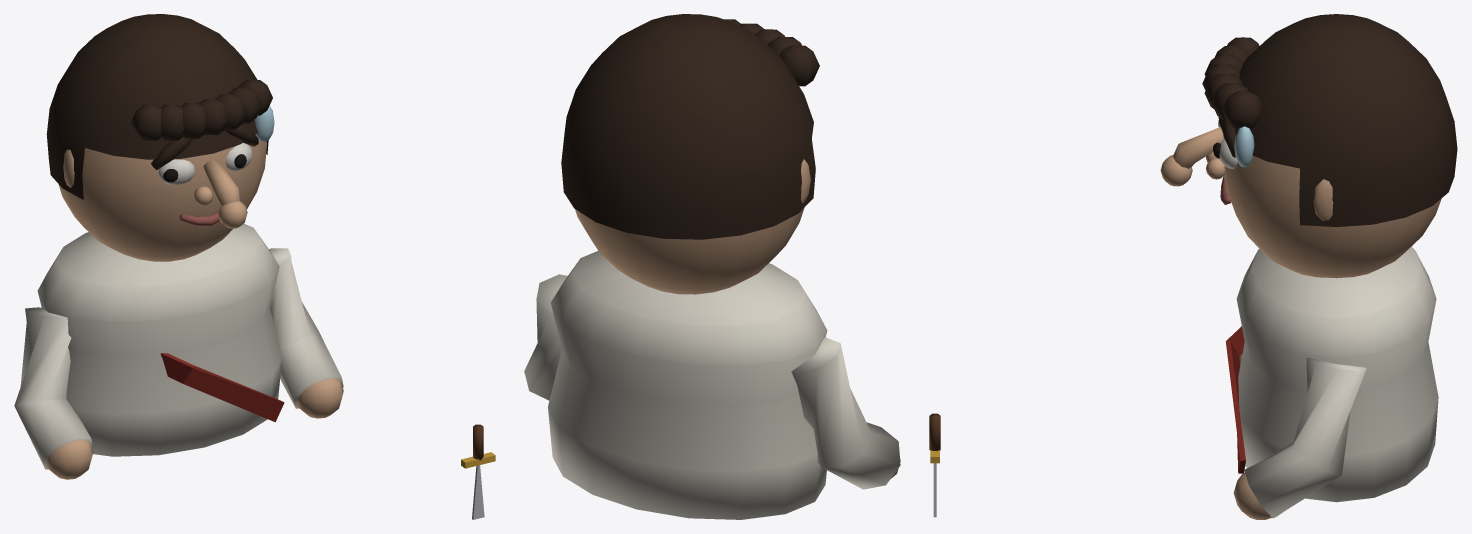
3 renders of one model, left to right at view 1: azimuth 30°, elevation 25°; view 2: azimuth 150°, elevation 25°; view 3: azimuth 270°, elevation 25°, orthographic. The views are drawn at different scales.
Visible parts, largest first — view 1: fig_body, fig_head, fig_props; view 2: fig_body, fig_head; view 3: fig_head, fig_body, fig_props.
Boxes of the visible parts, left/top/right/bottom form: fig_body: left=14, top=224, right=343, bottom=479; fig_head: left=46, top=14, right=274, bottom=261; fig_props: left=461, top=424, right=495, bottom=519; fig_body: left=524, top=251, right=900, bottom=519; fig_head: left=561, top=14, right=819, bottom=294; fig_head: left=1160, top=14, right=1457, bottom=278; fig_body: left=1225, top=247, right=1438, bottom=519; fig_props: left=929, top=413, right=940, bottom=517.
Bounding box in the file's own units: 0.7886 × 1 × 1.12.
